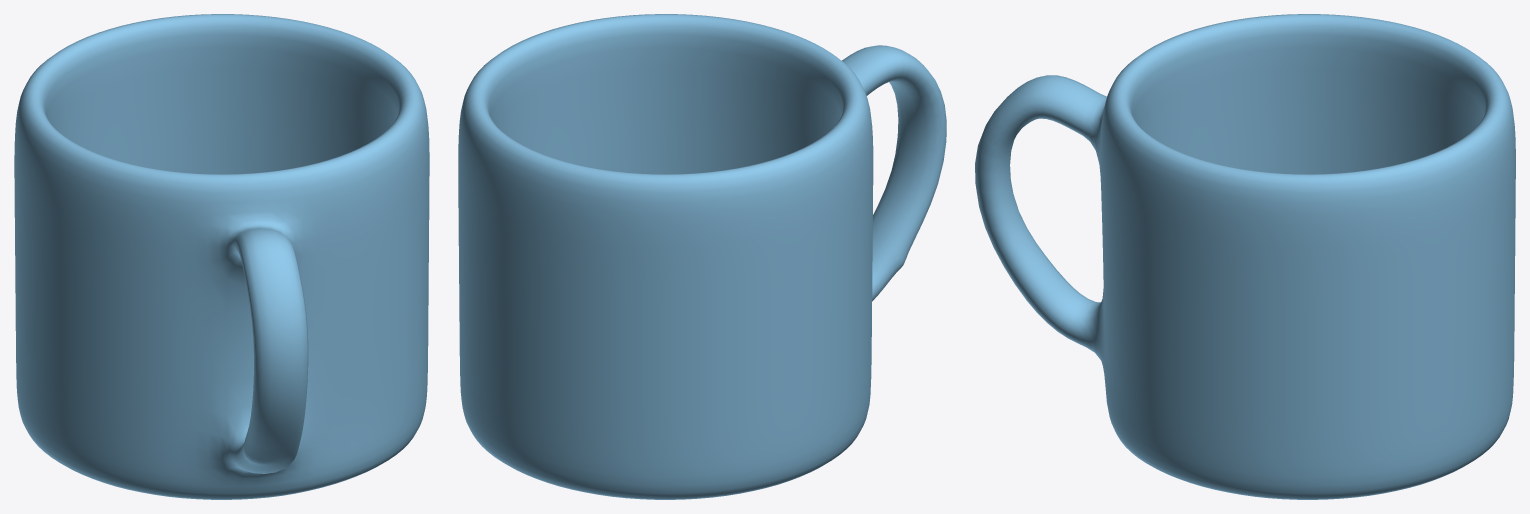
Rendered from cup2.glb.
3 renders of one model, left to right at view 1: azimuth 30°, elevation 25°; view 2: azimuth 150°, elevation 25°; view 3: azimuth 270°, elevation 25°, orthographic.
Parts seen in each view (by area): view 1: cup; view 2: cup; view 3: cup.
Part boxes in pixels (x1,y1,x2,y2): cup: [14, 14, 429, 499]; cup: [458, 14, 946, 499]; cup: [975, 14, 1515, 499].
Bounding box in the file's own units: 1.49 × 1.29 × 1.94.
